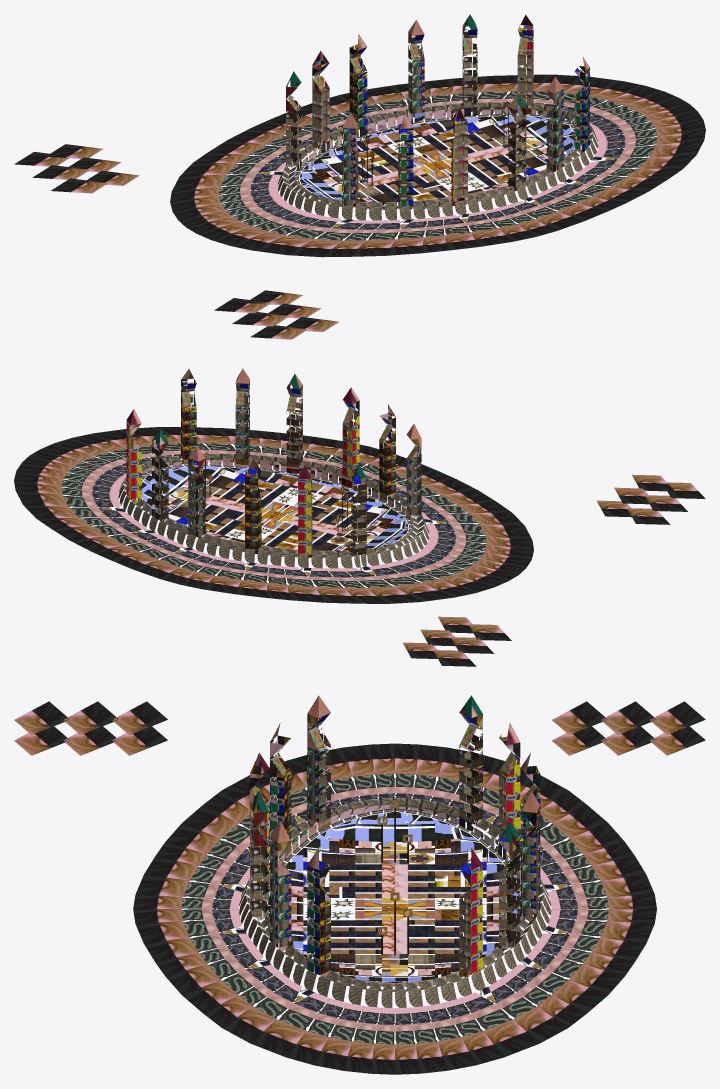
3 views of the same model, one above another, from view 1: azimuth 30°, elevation 25°; view 2: azimuth 150°, elevation 25°; view 3: azimuth 270°, elevation 25° (orthographic). The views are drawn at different scales.
Parts seen in each view (by area): view 1: T1L9M004_166, T1L9M004_182, T1L9M004_36, T1L9M004_158, T1L9M004_41, T1L9M004_177, T1L9M004_147, T1L9M004_198, T1L9M004_144, T1L9M004_150, T1L9M004_100, T1L9M004_55 (+67 smaller); view 2: T1L9M004_41, T1L9M004_36, T1L9M004_177, T1L9M004_182, T1L9M004_158, T1L9M004_55, T1L9M004_144, T1L9M004_100, T1L9M004_30, T1L9M004_166, T1L9M004_198, T1L9M004_125 (+63 smaller); view 3: T1L9M004_166, T1L9M004_55, T1L9M004_158, T1L9M004_71, T1L9M004_198, T1L9M004_100, T1L9M004_41, T1L9M004_182, T1L9M004_105, T1L9M004_9, T1L9M004_108, T1L9M004_75 (+103 smaller).
Boxes of the visible parts, left/top/right/bottom form: T1L9M004_166: left=619, top=140, right=703, bottom=168; T1L9M004_182: left=508, top=94, right=526, bottom=187; T1L9M004_36: left=349, top=34, right=367, bottom=127; T1L9M004_158: left=546, top=76, right=563, bottom=170; T1L9M004_41: left=408, top=20, right=424, bottom=113; T1L9M004_177: left=451, top=108, right=467, bottom=201; T1L9M004_147: left=342, top=113, right=358, bottom=206; T1L9M004_198: left=521, top=203, right=607, bottom=230; T1L9M004_144: left=252, top=235, right=342, bottom=256; T1L9M004_150: left=398, top=113, right=413, bottom=206; T1L9M004_100: left=178, top=210, right=251, bottom=239; T1L9M004_55: left=286, top=71, right=301, bottom=165; T1L9M004_41: left=188, top=445, right=206, bottom=536; T1L9M004_36: left=245, top=459, right=261, bottom=550; T1L9M004_177: left=342, top=387, right=359, bottom=478; T1L9M004_182: left=286, top=374, right=302, bottom=464; T1L9M004_158: left=235, top=368, right=249, bottom=459; T1L9M004_55: left=351, top=464, right=366, bottom=554; T1L9M004_144: left=469, top=512, right=531, bottom=540; T1L9M004_100: left=466, top=552, right=531, bottom=581; T1L9M004_30: left=298, top=464, right=311, bottom=554; T1L9M004_166: left=94, top=427, right=180, bottom=457; T1L9M004_198: left=280, top=433, right=342, bottom=463; T1L9M004_125: left=406, top=423, right=421, bottom=514; T1L9M004_166: left=222, top=1003, right=318, bottom=1057; T1L9M004_55: left=459, top=695, right=482, bottom=822; T1L9M004_158: left=270, top=821, right=291, bottom=947; T1L9M004_71: left=459, top=848, right=482, bottom=975; T1L9M004_198: left=135, top=919, right=218, bottom=962; T1L9M004_100: left=343, top=743, right=419, bottom=776; T1L9M004_41: left=521, top=791, right=540, bottom=917; T1L9M004_182: left=250, top=790, right=268, bottom=917; T1L9M004_105: left=355, top=805, right=418, bottom=841; T1L9M004_9: left=591, top=921, right=654, bottom=961; T1L9M004_108: left=355, top=800, right=412, bottom=886; T1L9M004_75: left=438, top=1031, right=503, bottom=1070.
Bounding box in the file's own units: 72.31 × 12.56 × 56.62.
